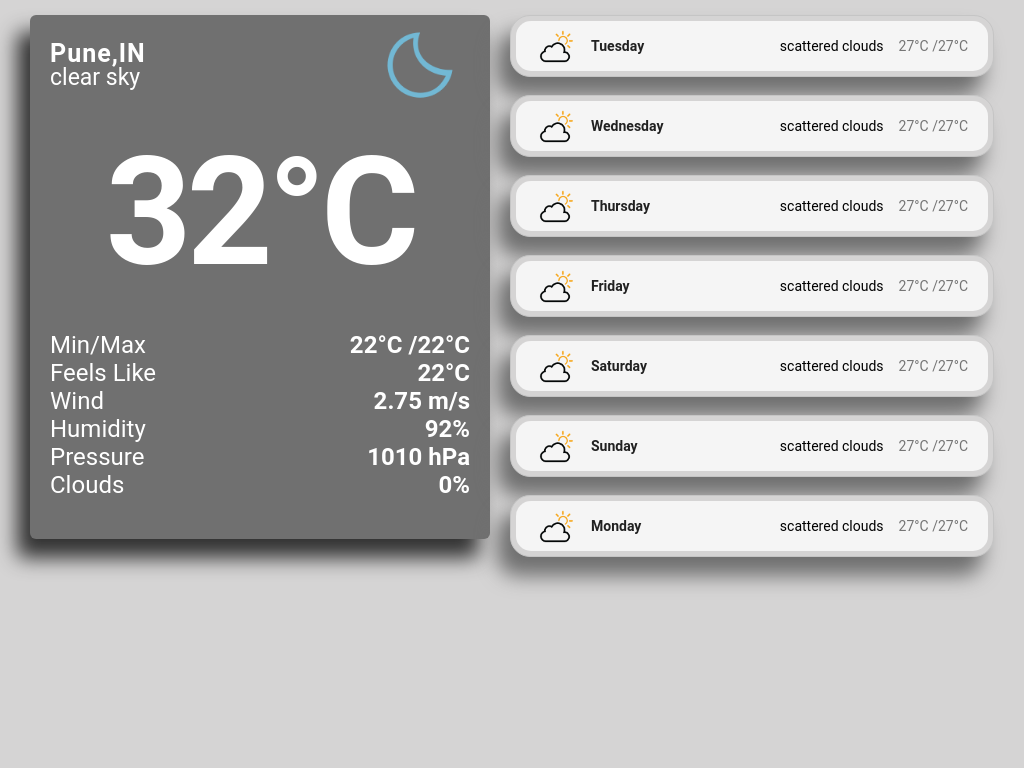
Test case: Weather › clicking on forecast tab opens the accordian and validate the value from api
Click the element with test id "head" that starts with "Tuesday": point(752, 46) [511,21,993,71]
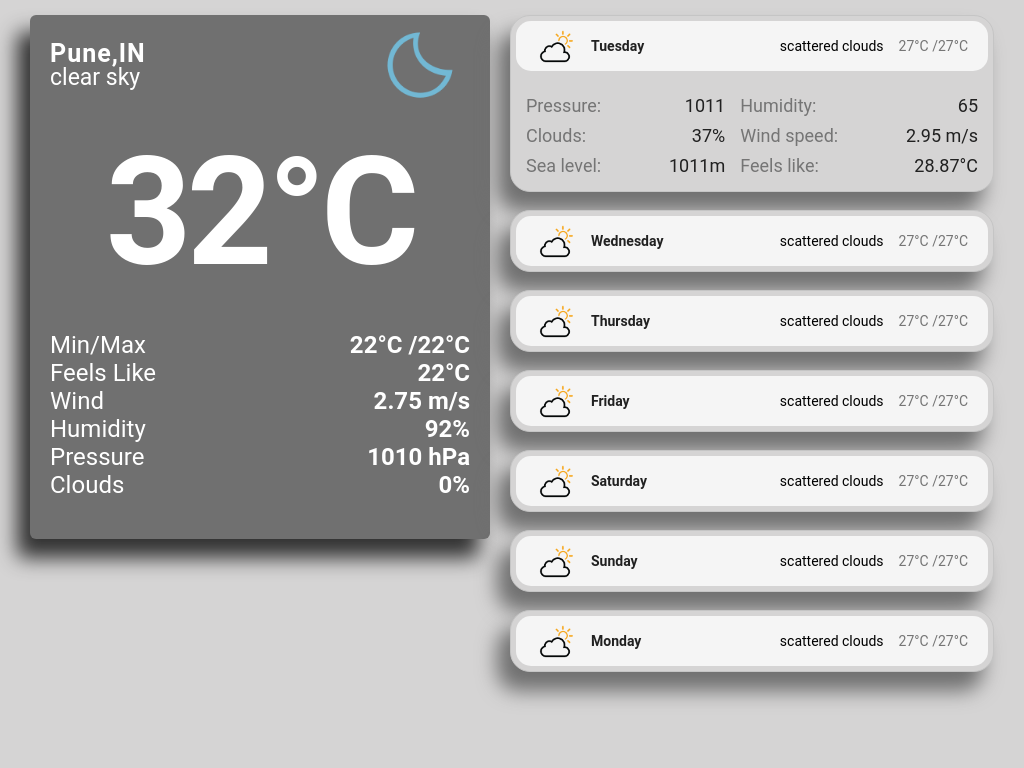
Expected: the number of elements with class "daily-details-grid-item" is 6, [526,90,725,120]; [740,90,978,120]; [526,120,725,150]; [740,120,978,150]; [526,150,725,180]; [740,150,978,180]
Expected: the label "Pressure:" is shown, [526,94,601,116]
Expected: the label "1011" is shown, [685,94,725,116]
